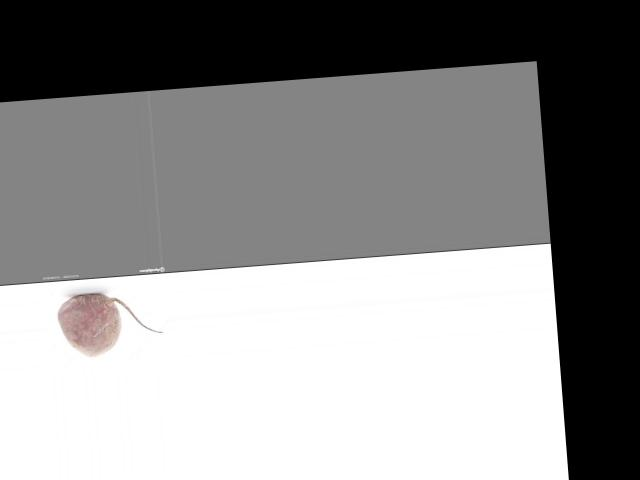beet: (55, 288, 164, 358)
